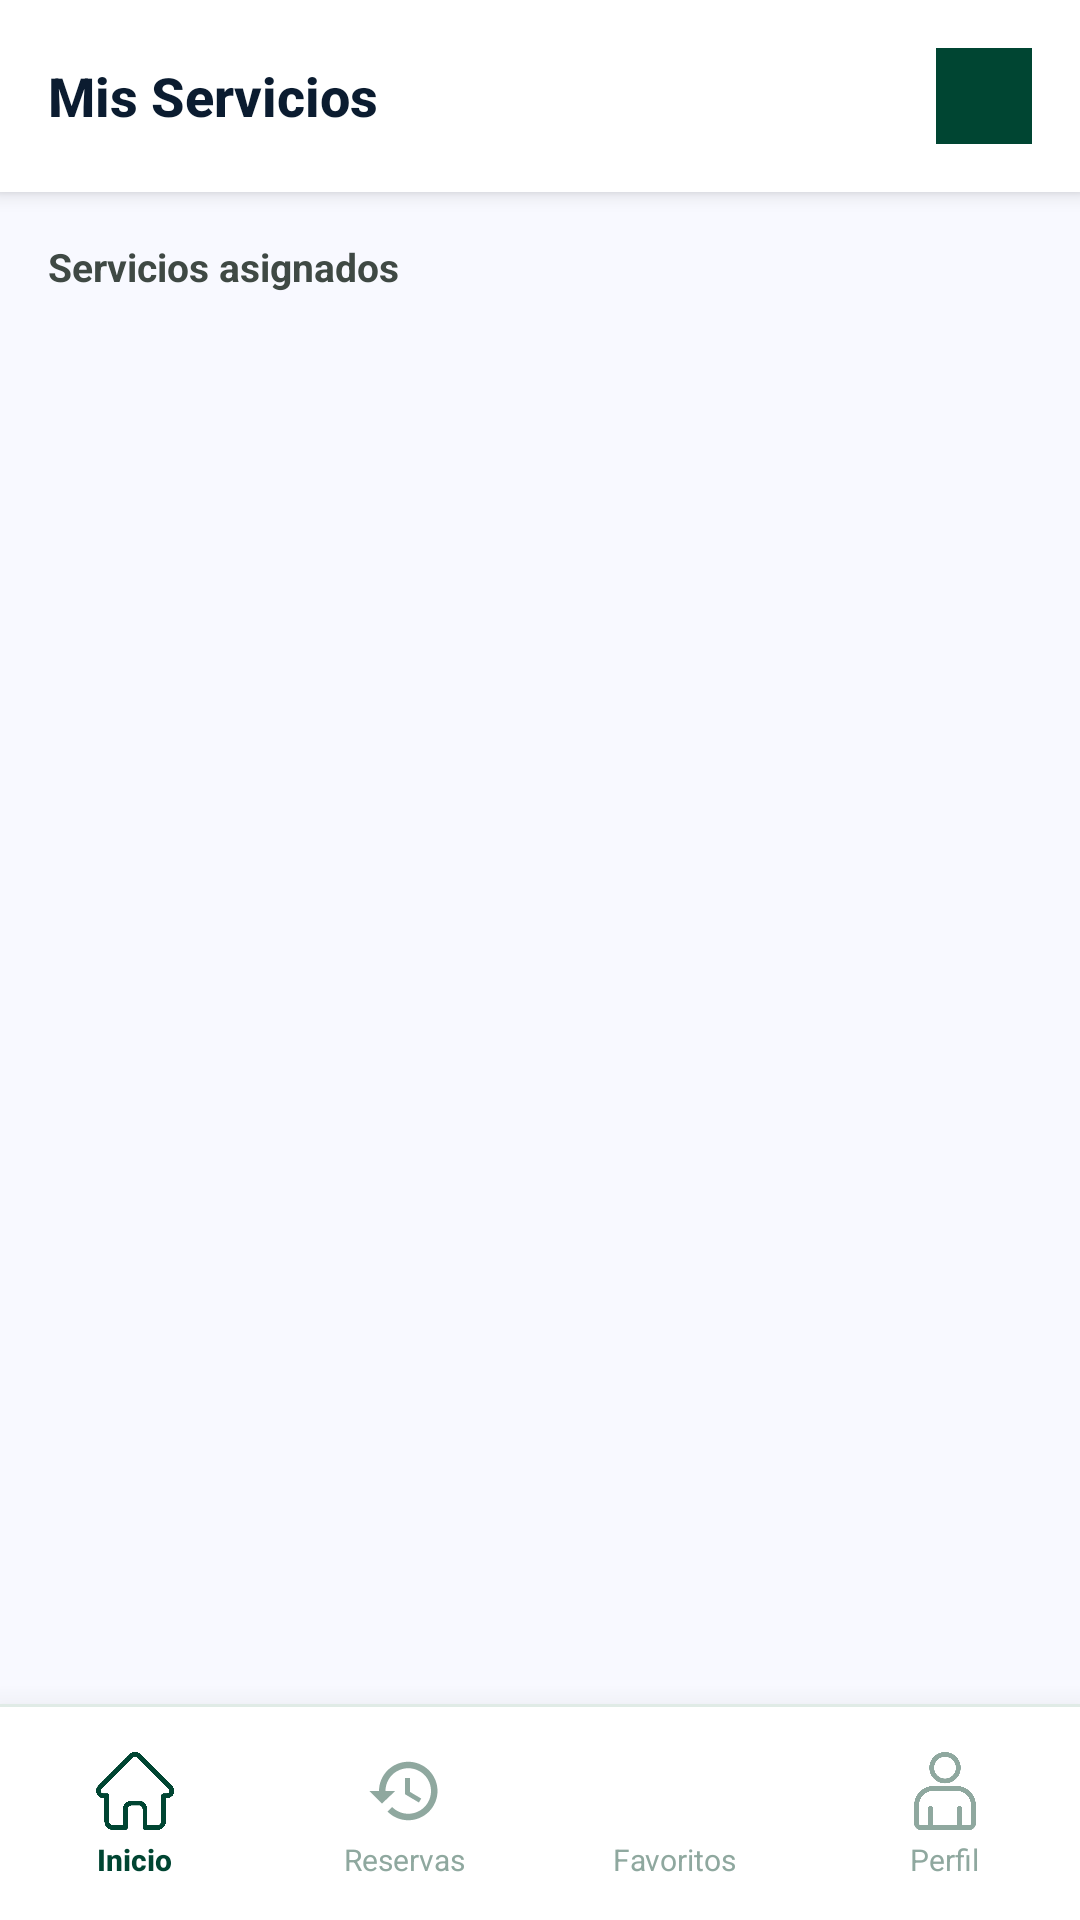

Icons on this 1080*1920 Android screen, each with its box as (x1, y1, x2, y2):
historial: (370, 1761, 438, 1821)
